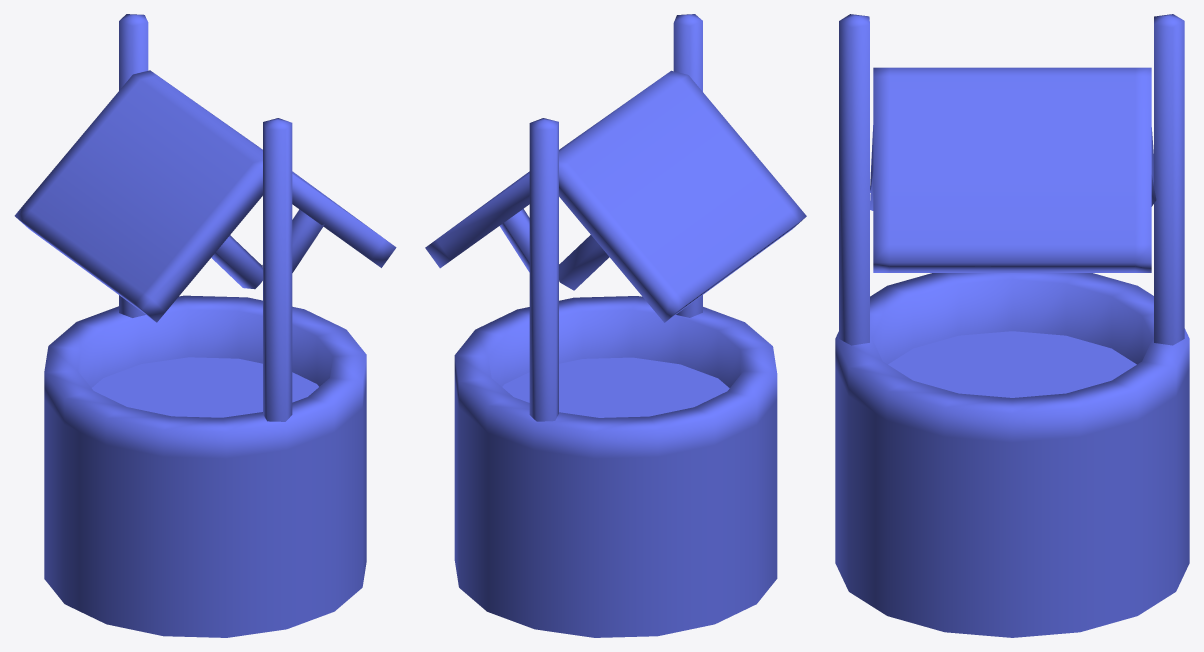
Rendered from SM_ObstacleWell.fbx.
3 renders of one model, left to right at view 1: azimuth 30°, elevation 25°; view 2: azimuth 150°, elevation 25°; view 3: azimuth 270°, elevation 25°, orthographic. The views are drawn at different scales.
Visible parts, largest first — view 1: SM_ObstacleWell, SM_ObstacleWell1; view 2: SM_ObstacleWell, SM_ObstacleWell1; view 3: SM_ObstacleWell, SM_ObstacleWell1.
Boxes of the visible parts, x1,y1,x2,y2 form: SM_ObstacleWell: (44,295,366,637); SM_ObstacleWell1: (14,14,396,421); SM_ObstacleWell: (454,296,777,637); SM_ObstacleWell1: (425,14,806,421); SM_ObstacleWell: (835,273,1189,637); SM_ObstacleWell1: (839,14,1184,345).
Size of the model in its own units: 84.99 by 145 by 84.99.
